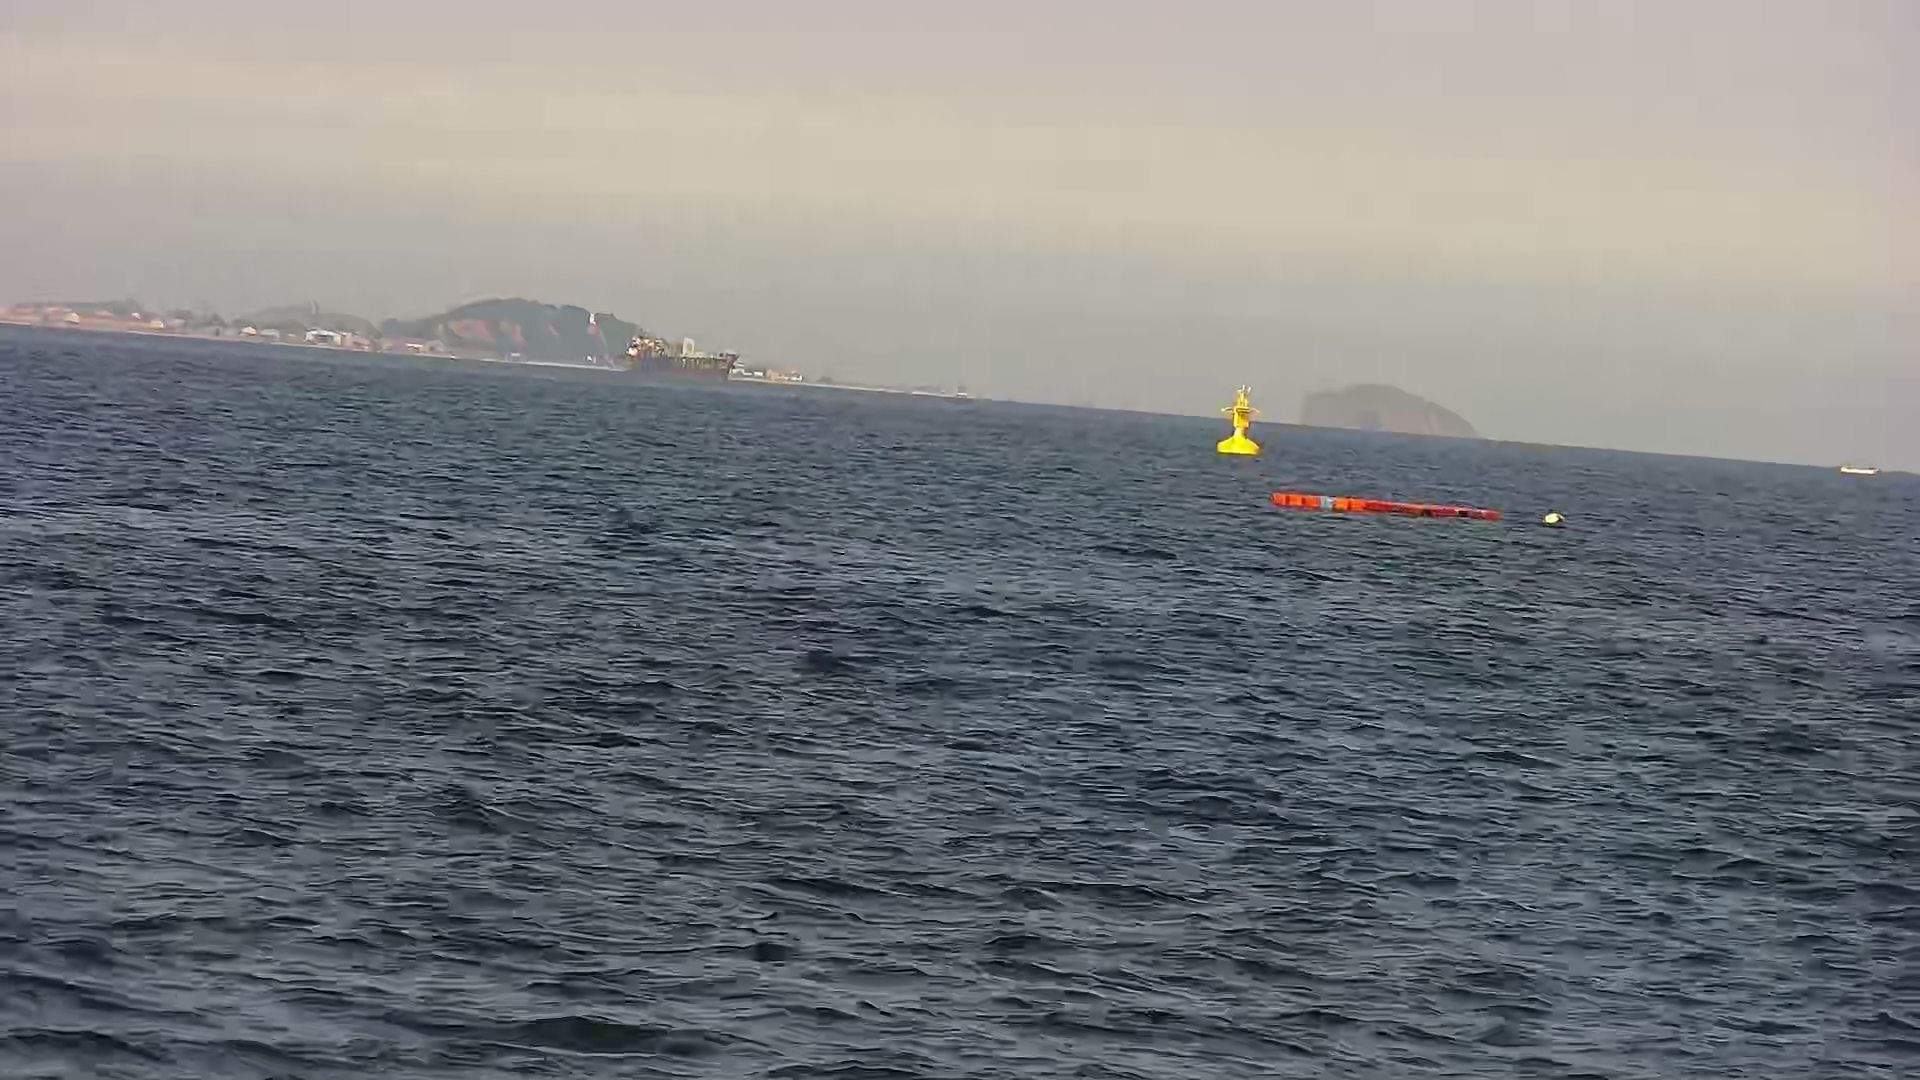ball: (1536, 504, 1576, 520)
buoy: (1208, 382, 1269, 465)
platform: (1274, 465, 1514, 545)
